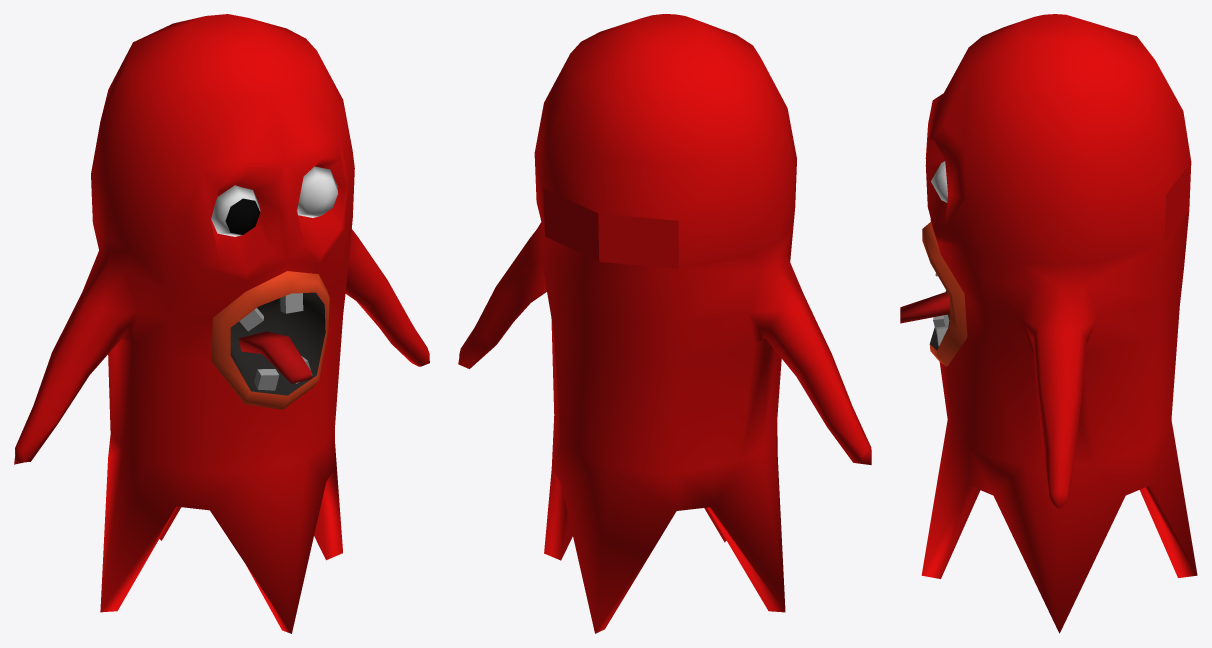
File: blinky.FBX
The picture shows the model from 3 angles, left to right: view 1: azimuth 30°, elevation 25°; view 2: azimuth 150°, elevation 25°; view 3: azimuth 270°, elevation 25°; orthographic projection.
Visible parts, largest first — view 1: BLINKY final; view 2: BLINKY final; view 3: BLINKY final.
Part boxes in pixels (x1=…): BLINKY final: x1=14, y1=14, x2=429, y2=633; BLINKY final: x1=458, y1=14, x2=871, y2=633; BLINKY final: x1=900, y1=14, x2=1197, y2=633.
Bounding box in the file's own units: 2.09 × 2.68 × 1.31.
